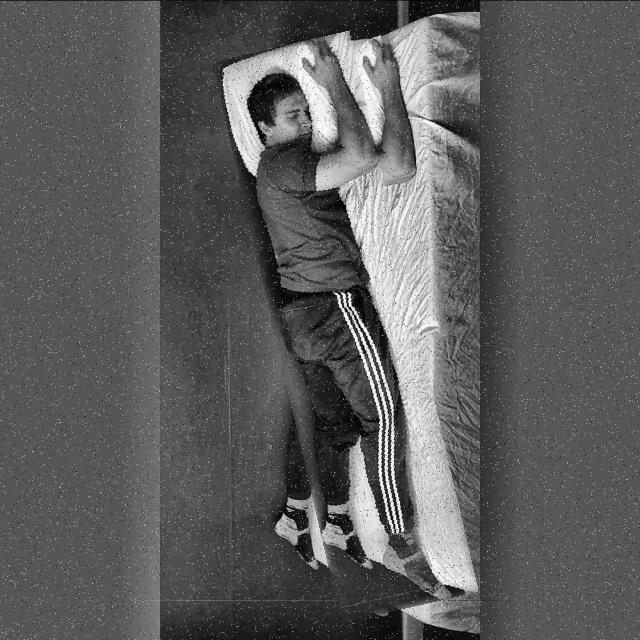Not_Supine: (247, 40, 452, 600)
